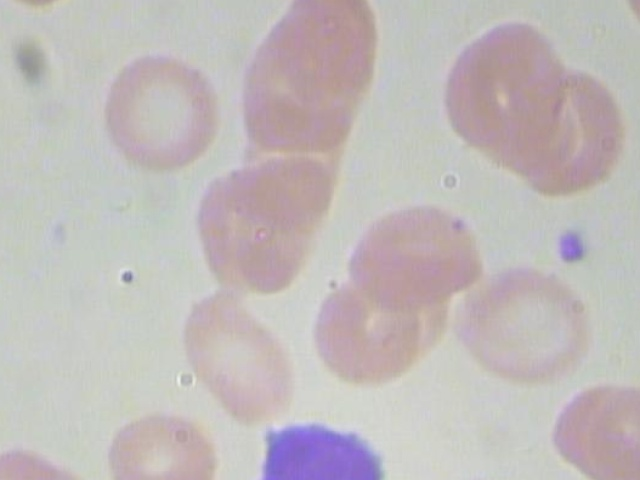Platelets: (553, 221, 604, 274), (439, 470, 508, 480)
RBC: (434, 7, 570, 159), (448, 267, 605, 390), (92, 35, 226, 173), (175, 291, 303, 431), (339, 198, 486, 308), (309, 274, 433, 386), (102, 407, 218, 480), (575, 375, 640, 480), (0, 437, 66, 480)
WBC: (241, 406, 411, 480)
